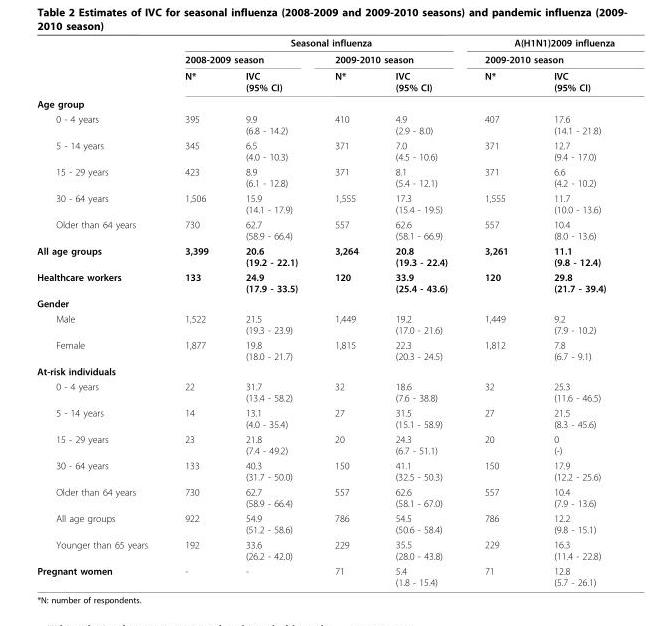table: (36, 36, 614, 587)
table column: (36, 36, 165, 587), (226, 36, 315, 587), (376, 36, 465, 587), (530, 36, 614, 587), (465, 36, 530, 587), (165, 36, 226, 587), (315, 36, 376, 587)
table column header: (36, 36, 614, 95)
table projected row header: (36, 95, 614, 111), (36, 295, 614, 310), (36, 363, 614, 378)
table row: (36, 67, 614, 95), (36, 163, 614, 190), (36, 242, 614, 269), (36, 310, 614, 337), (36, 404, 614, 431), (36, 457, 614, 484), (36, 536, 614, 563), (36, 111, 614, 137), (36, 137, 614, 163), (36, 190, 614, 216), (36, 216, 614, 242), (36, 269, 614, 295), (36, 337, 614, 363), (36, 378, 614, 404), (36, 431, 614, 457), (36, 484, 614, 510), (36, 510, 614, 536), (36, 563, 614, 587), (36, 50, 614, 67), (36, 95, 614, 111), (36, 295, 614, 310), (36, 363, 614, 378), (36, 36, 614, 50)
table spanning cell: (465, 36, 614, 67), (165, 36, 465, 50), (165, 50, 315, 67), (315, 50, 465, 67)
